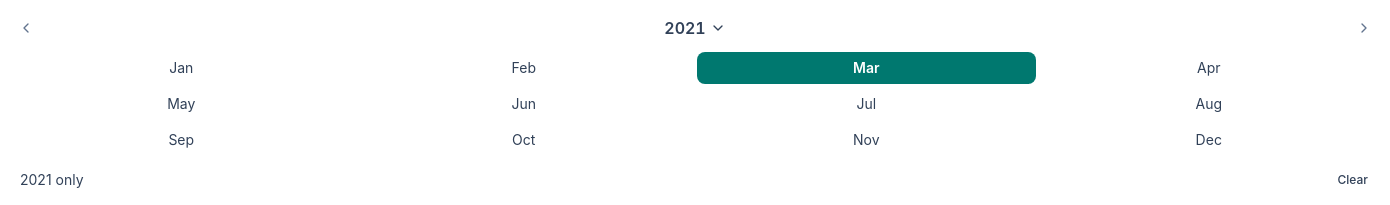
it: YearMonthPicker › picks a year from the year grid, keeping the month
Click the button named "Choose year, 2021": click(695, 28) [654,12,736,44]
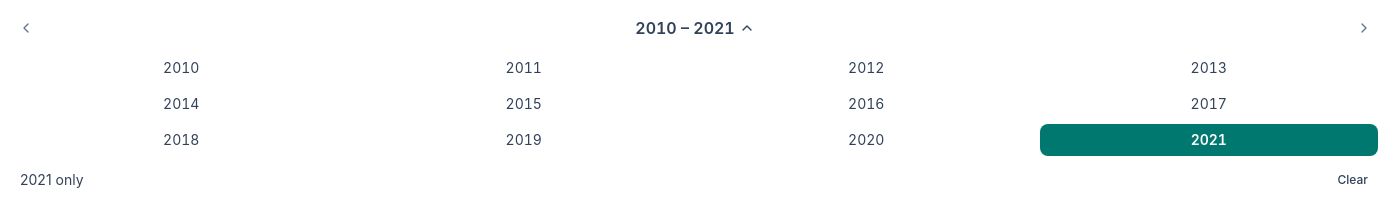
Click the button "2018": click(181, 140) [12,124,350,156]
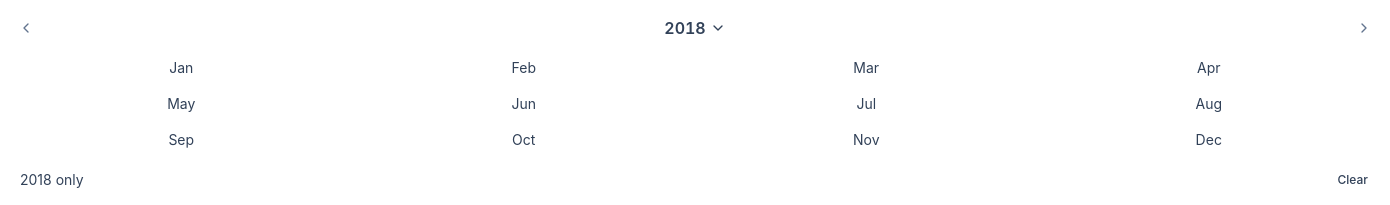
Now the button with aria-label "Jan 2018" is shown, box [12,52,350,84]
